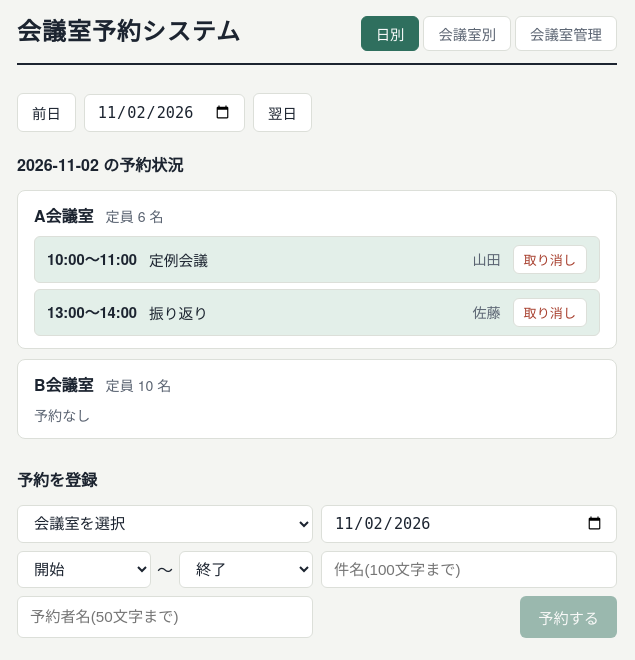
Test: 日別予約状況 › 時間帯が重なる予約はエラーメッセージが表示され、入力内容は残る
Expected: the text "定例会議" is shown, [149, 249, 208, 270]
Select "A会議室(定員 6 名)" in the dropdown named "会議室": (165, 524) [17, 505, 313, 543]
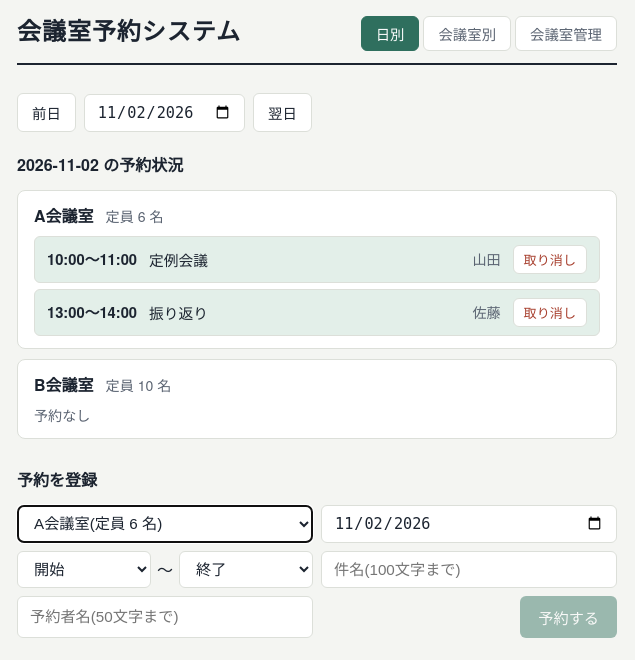
Select "10:30" in the dropdown named "開始時刻": (84, 569) [17, 551, 151, 588]
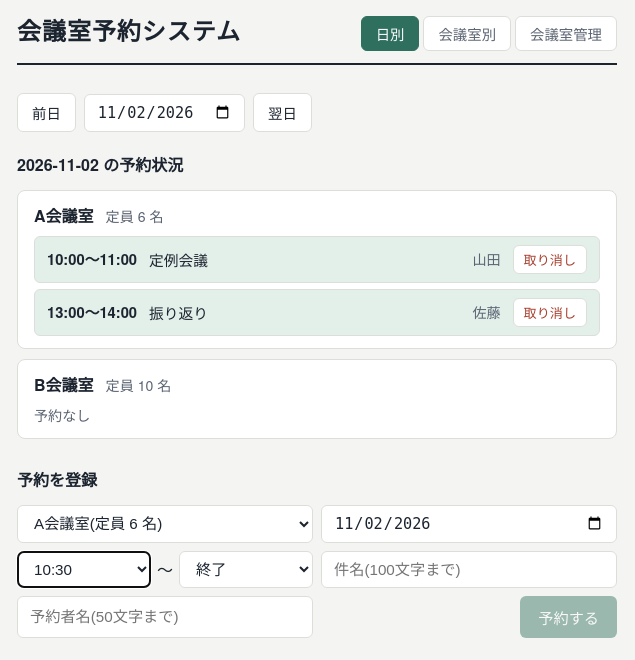
Select "11:30" in the dropdown named "終了時刻": (246, 569) [179, 551, 313, 588]
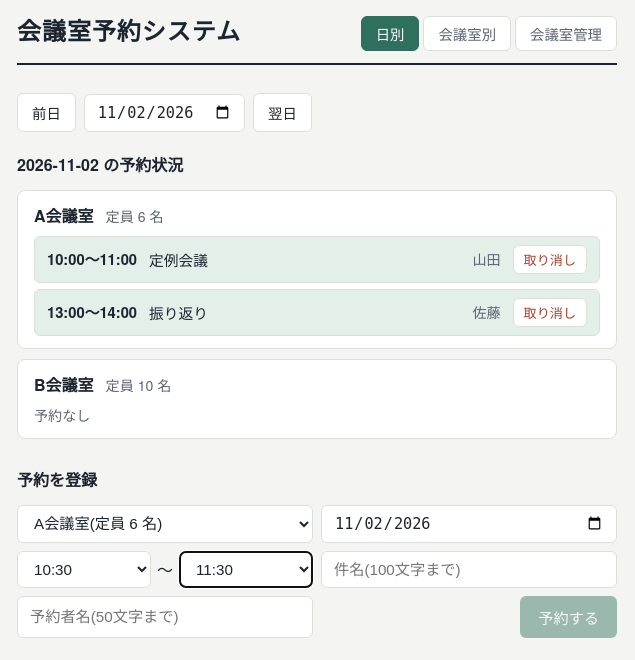
In the field labelled "件名": (469, 569) [321, 551, 617, 588], type "打合せ"
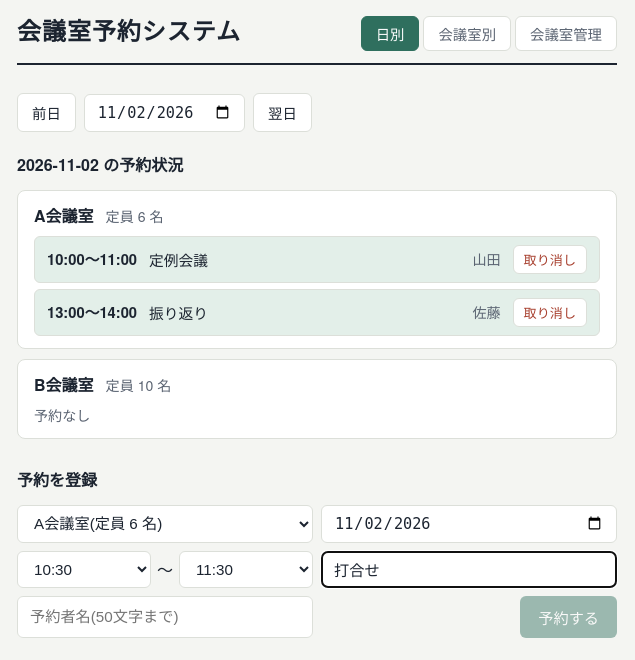
In the field labelled "予約者名": (165, 617) [17, 596, 313, 638], type "佐藤"
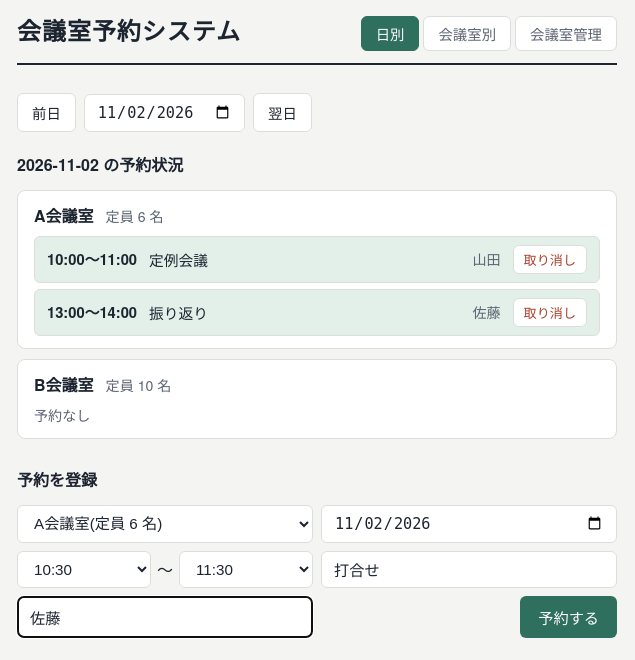
Click the button "予約する": click(569, 617) [520, 596, 617, 638]
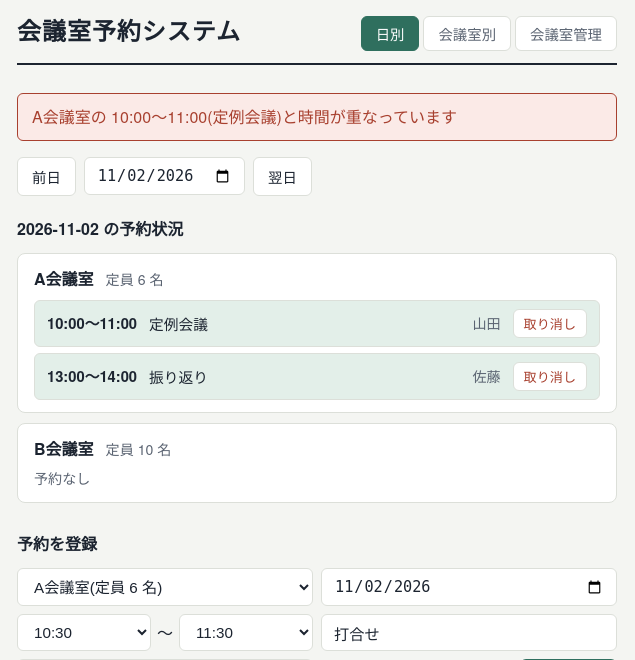
Result: the text "A会議室の 10:00〜11:00(定例会議)と時間が重なっています" is shown at [17, 93, 617, 141]
